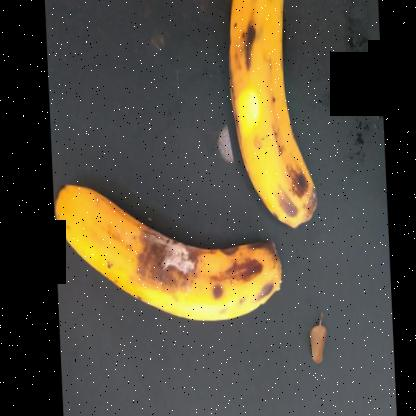overripe: (38, 170, 289, 335), (210, 1, 317, 232)
